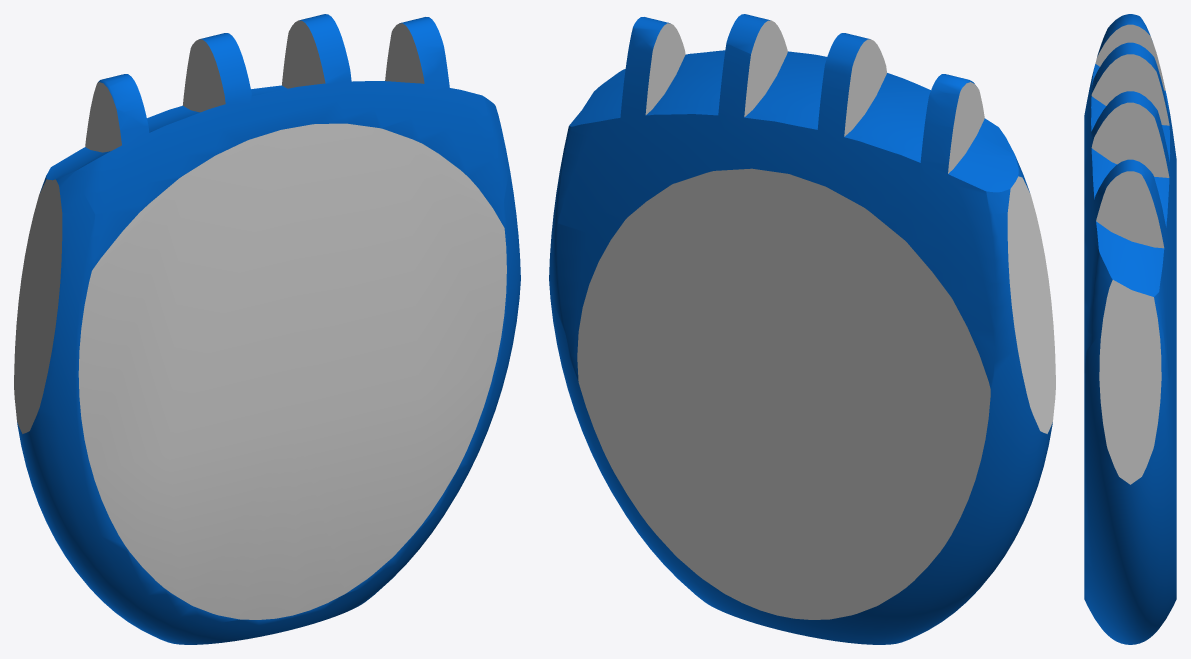
File: palm-right.glb
3 views of the same model, side by side, from view 1: azimuth 30°, elevation 25°; view 2: azimuth 150°, elevation 25°; view 3: azimuth 270°, elevation 25° (orthographic). The views are drawn at different scales.
Parts seen in each view (by area): view 1: EndPhalange; view 2: EndPhalange; view 3: EndPhalange.
Part boxes in pixels (x1,y1,x2,y2): EndPhalange: (14, 14, 520, 644); EndPhalange: (549, 14, 1055, 644); EndPhalange: (1084, 14, 1176, 644).
Size of the model in its own units: 1.65 by 1.89 by 0.299.
